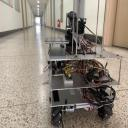cart: (48, 46, 124, 126)
